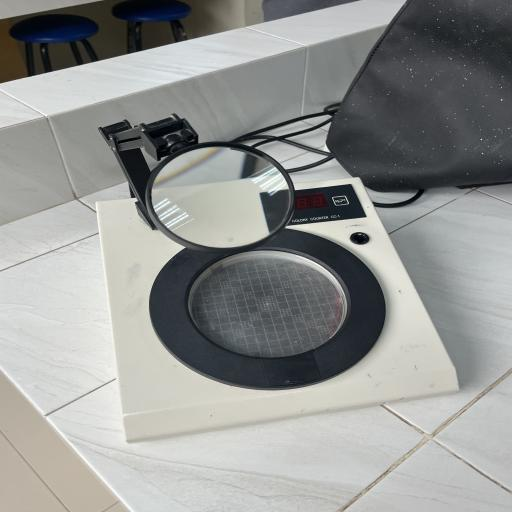Contador_Colonias_CC1: (78, 107, 471, 445)
